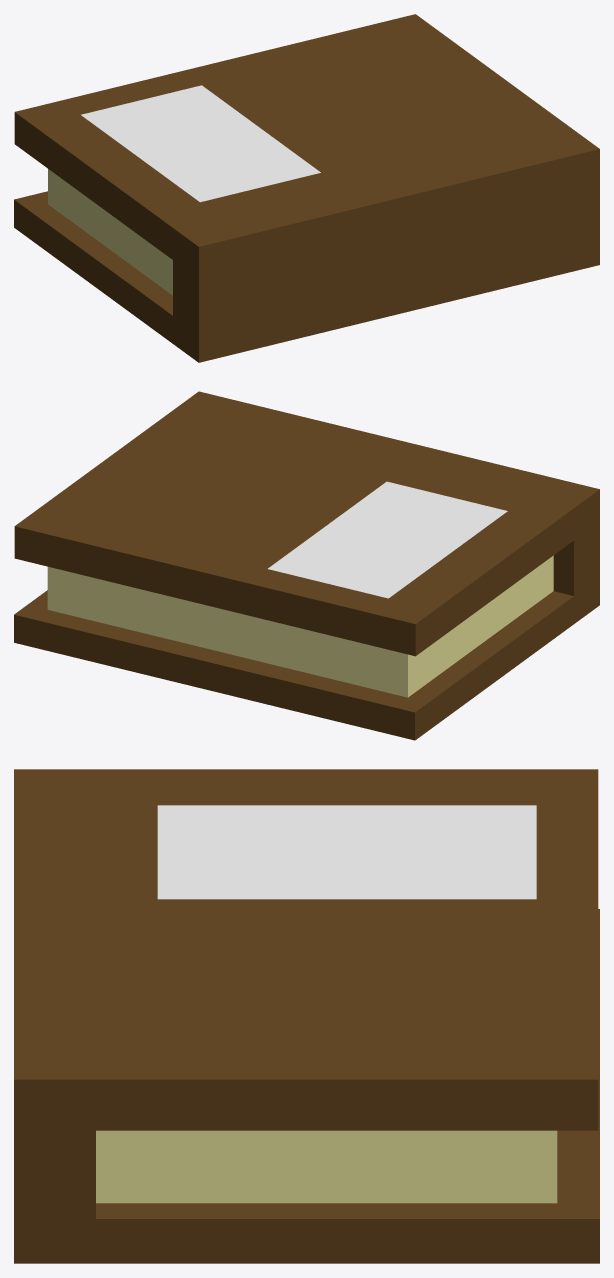
Rendered from bookThrownWeapon.fbx.
3 renders of one model, top to bottom at view 1: azimuth 30°, elevation 25°; view 2: azimuth 150°, elevation 25°; view 3: azimuth 270°, elevation 25°, orthographic. The views are drawn at different scales.
Parts seen in each view (by area): view 1: Cube; view 2: Cube; view 3: Cube.
Boxes of the visible parts, <box> form: Cube: <box>14,14,599,362</box>; Cube: <box>14,391,599,740</box>; Cube: <box>14,769,599,1263</box>.
Bounding box in the file's own units: 167 × 46.02 × 133.
